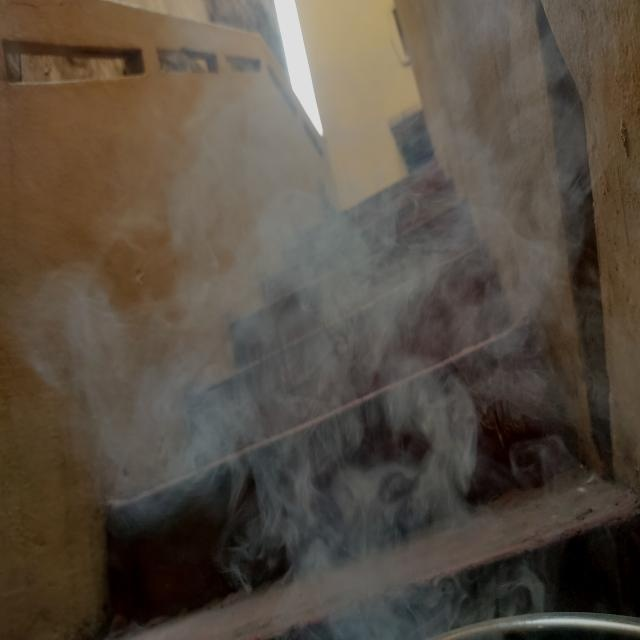smoke: (130, 124, 414, 485)
